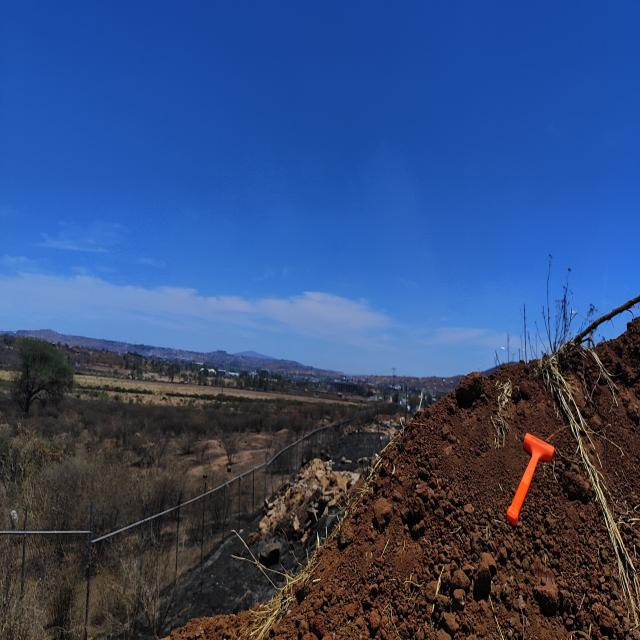Orange_hammer: (505, 431, 555, 527)
rock: (371, 489, 394, 527)
